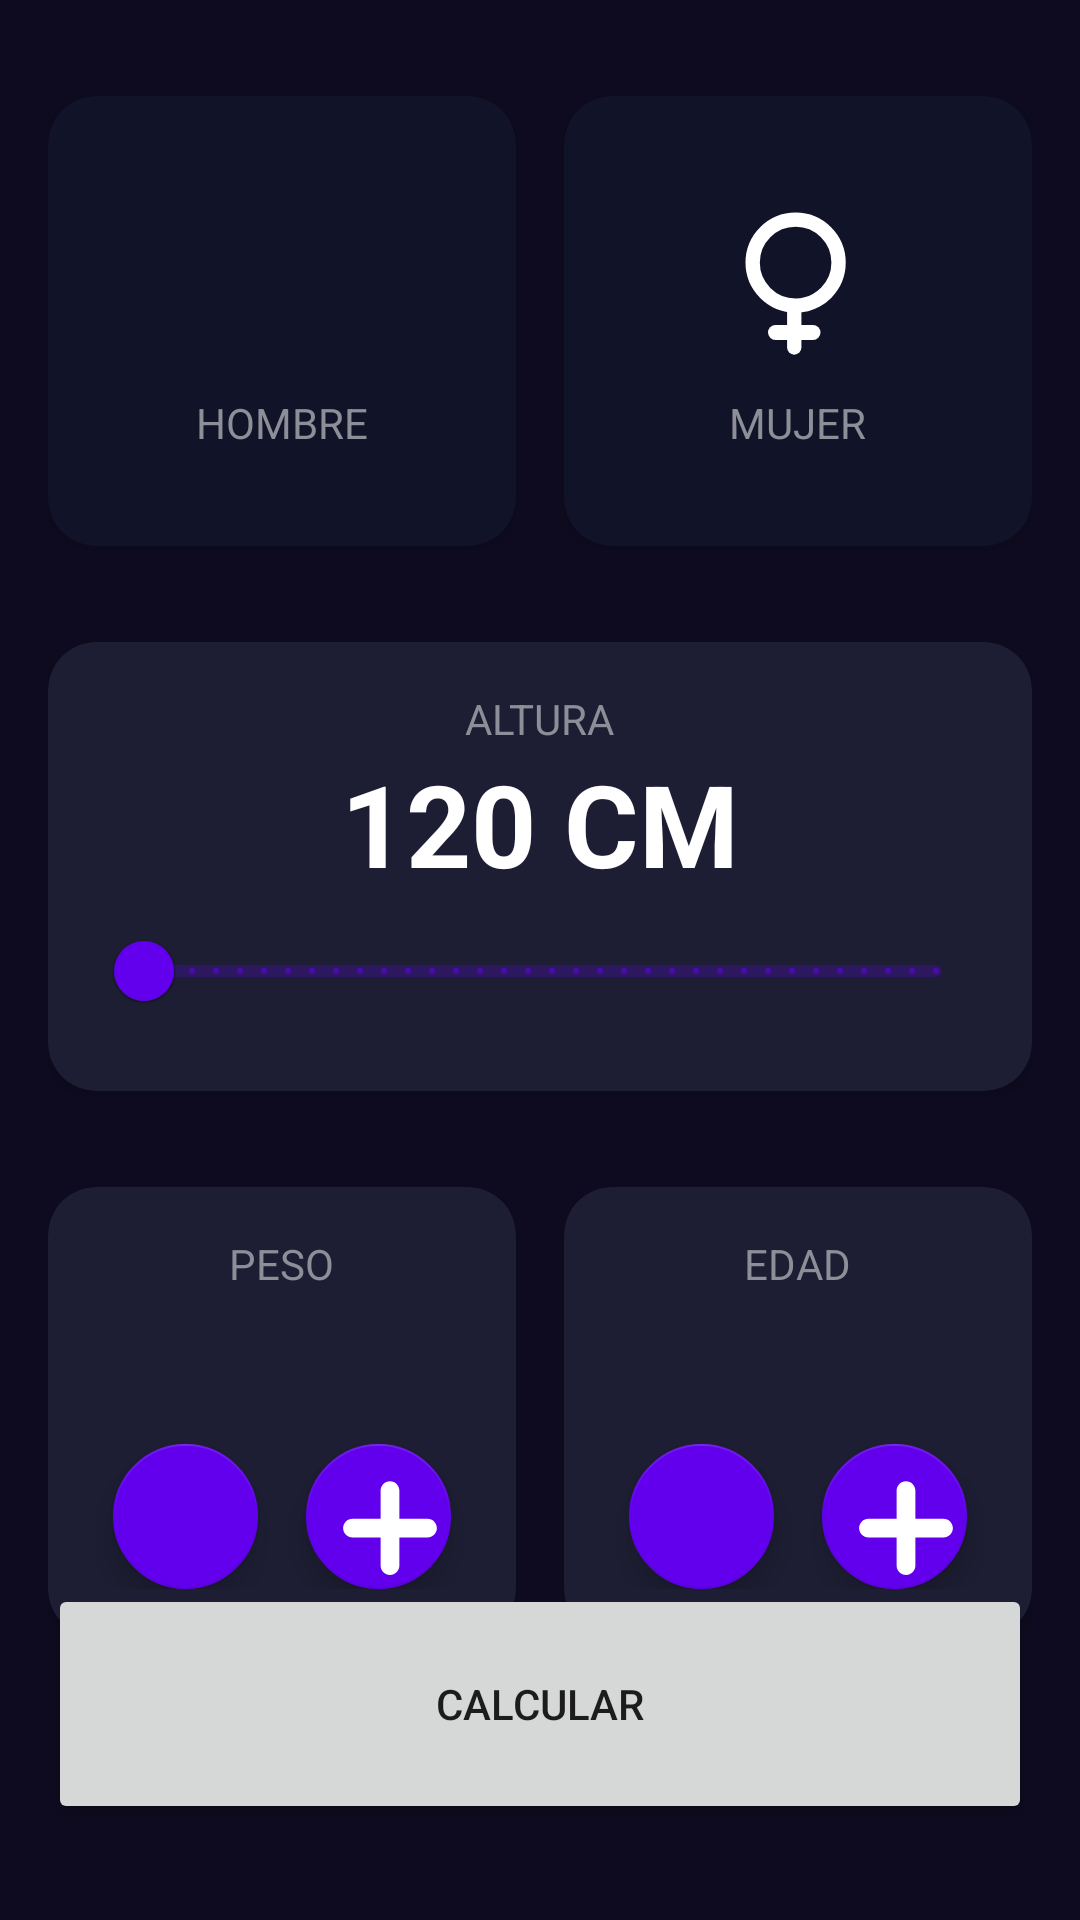

Where icons sit on this 1080x1920 app screen, as (x1, y1, x2, y2):
female: (745, 212, 846, 355)
plus: (306, 1444, 451, 1589), (822, 1444, 967, 1589)
